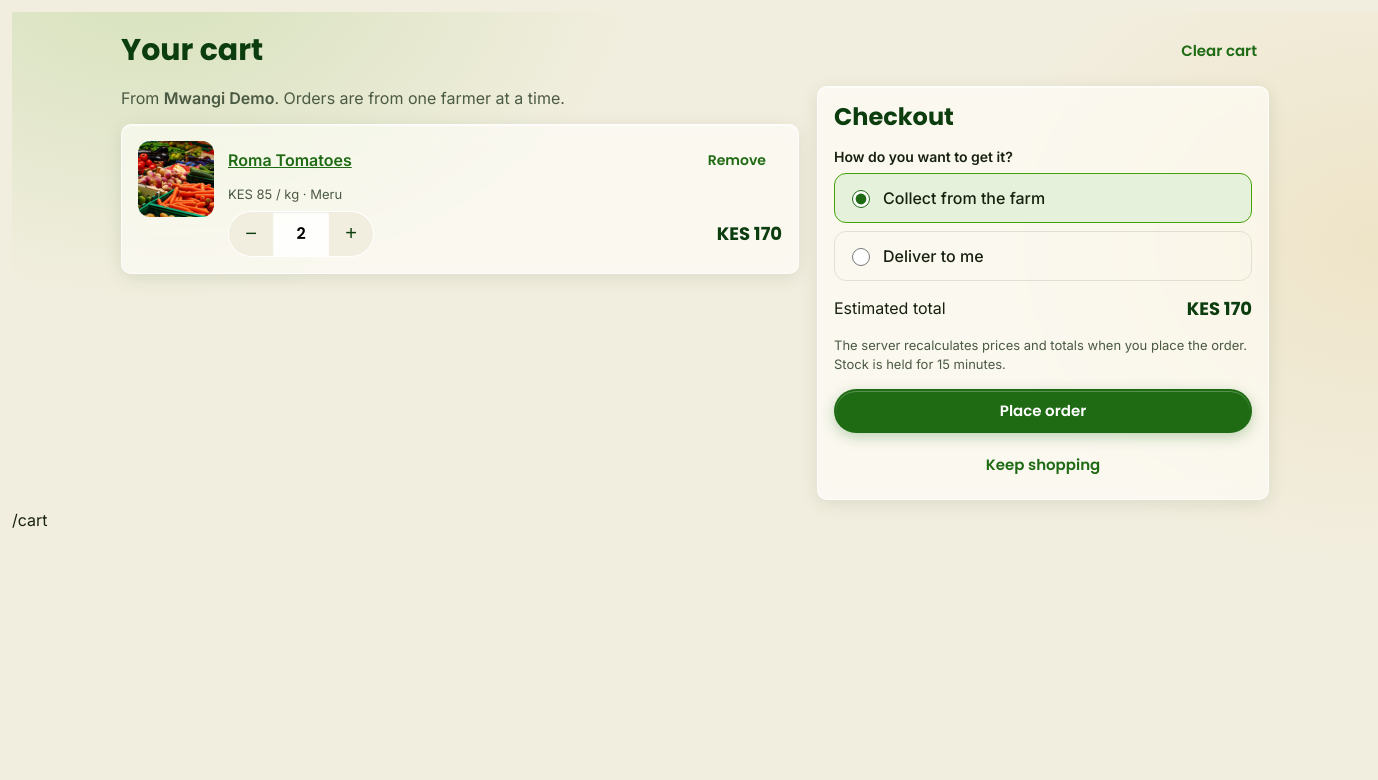
Test case: checkout › sends no prices, reuses the same Idempotency-Key when retrying, and clears the cart on success
Click the button "Place order".
click(1043, 411)  # box x1=834 y1=389 x2=1252 y2=433
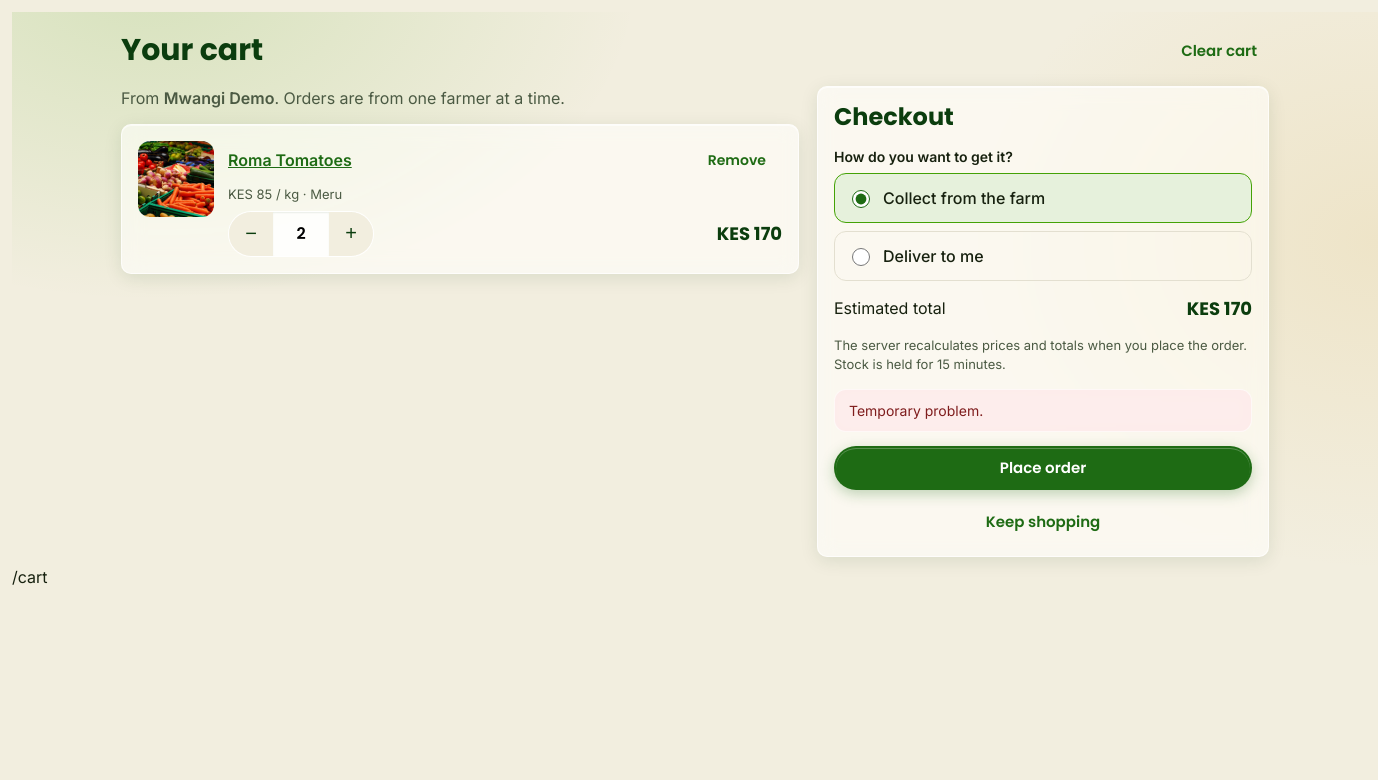
Check: the text "Temporary problem." is shown, box x1=834 y1=389 x2=1252 y2=432
Click the button "Place order".
click(1043, 468)  # box x1=834 y1=446 x2=1252 y2=490
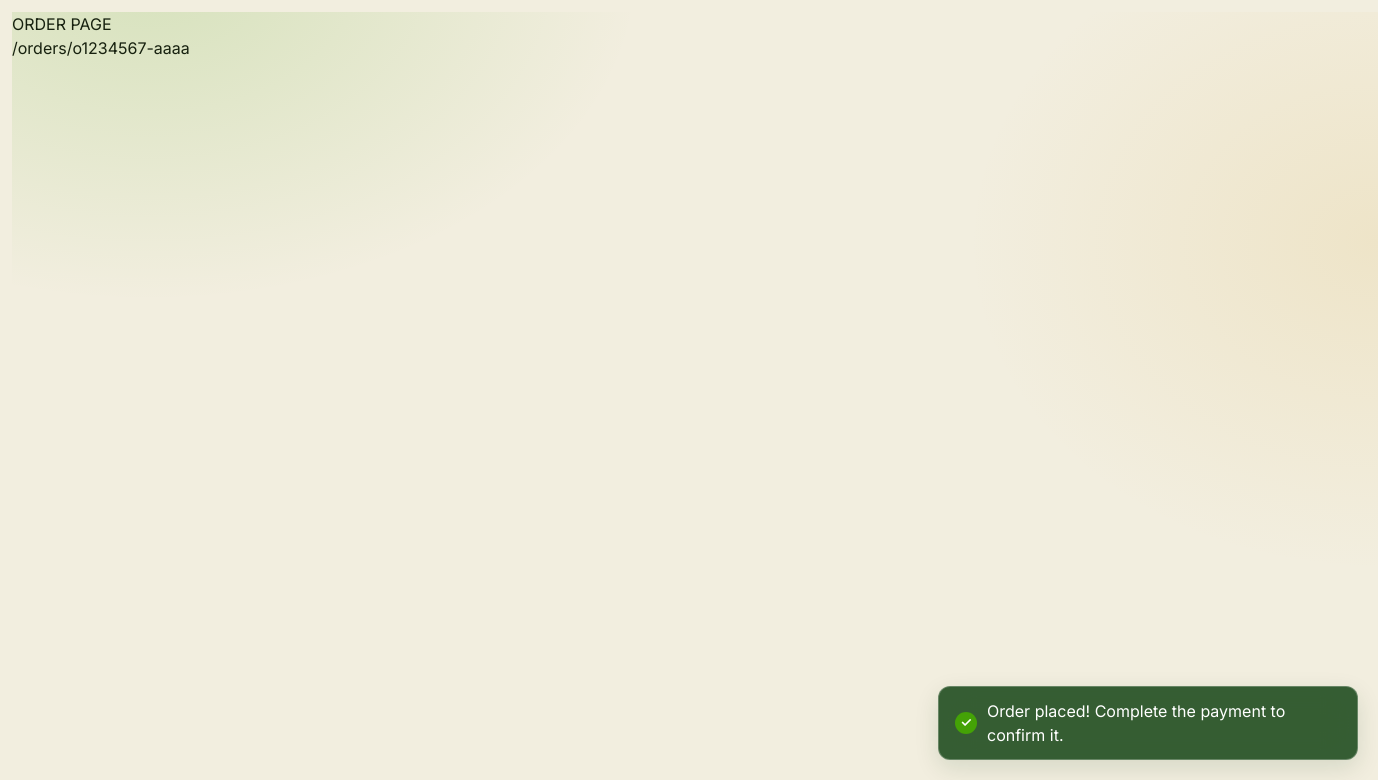
Check: the text "ORDER PAGE" is shown, box x1=12 y1=14 x2=112 y2=34
